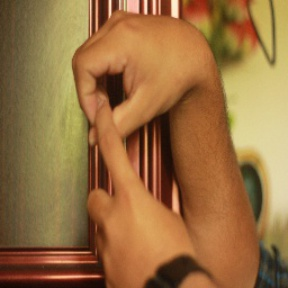Q: (70, 8, 217, 248)
